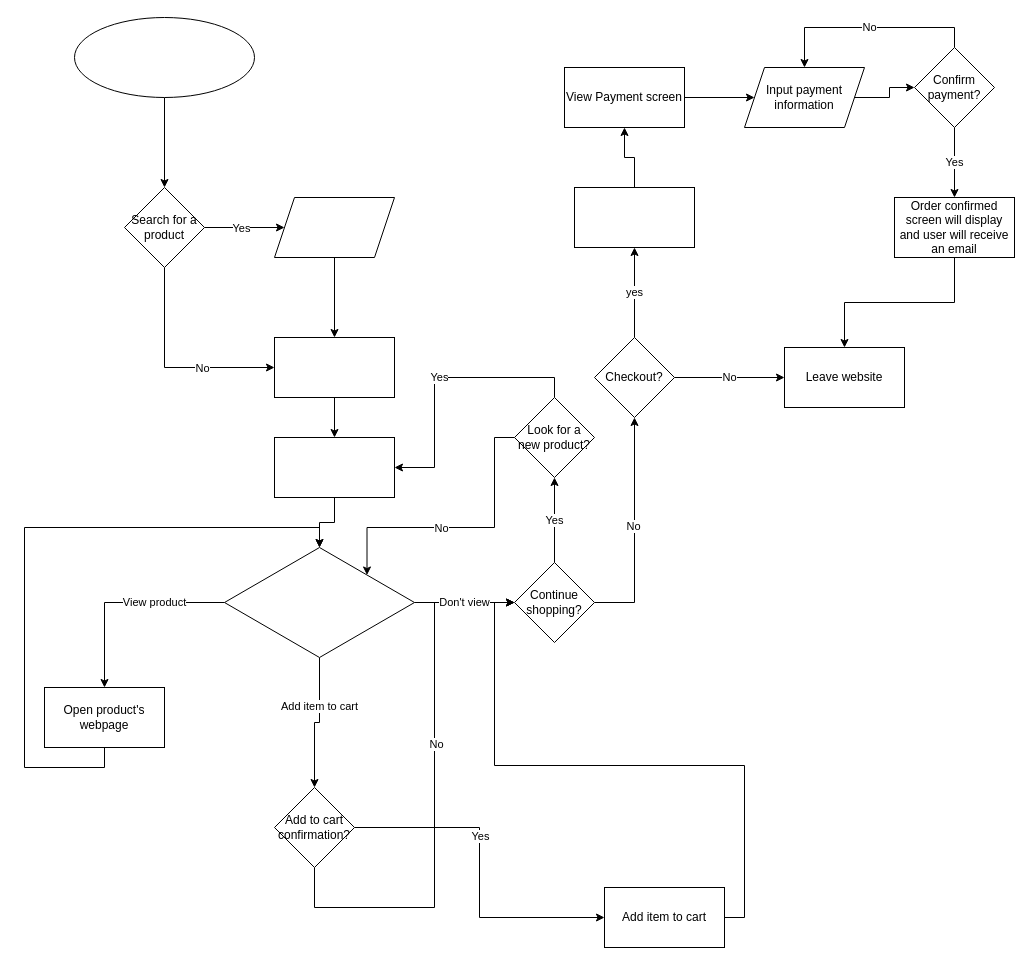
This 1032x965 diagram has some shape labels left out. The shapes that lost their labels are listed below. From the top down, each one's centre as x and y in pixels, then its label:
At (164,57): "Start".
At (334,227): "User inputs website to search from".
At (634,217): "View Cart".
At (334,367): "Begin looking over the products".
At (334,467): "Find a specific product".
At (319,602): "Add Item to cart, view product, or don't view product".
